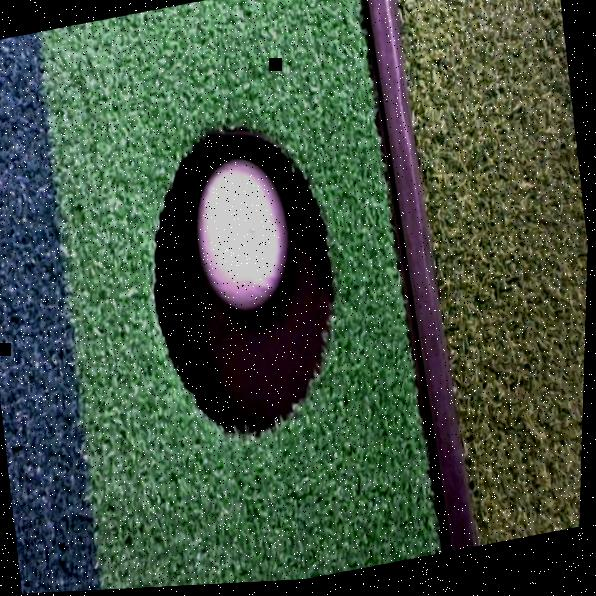GolfBall: (186, 144, 309, 321)
